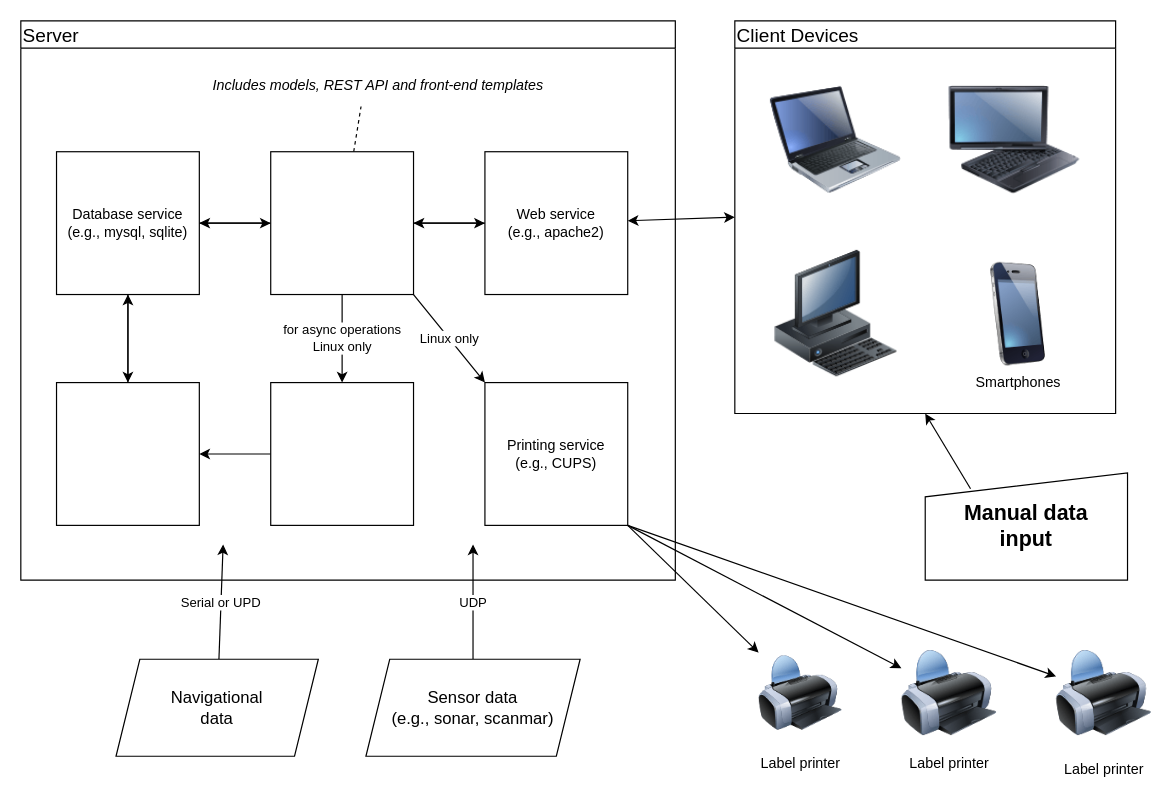
Some shapes in this 1172 by 798 pixel diagram are drawn without their labels. Here are the shapes that lost their labels. From the top down, the box of each, then its label:
(770, 80, 901, 199): Laptops
(948, 74, 1079, 205): Tablets
(270, 151, 414, 295): Andes web application
(770, 250, 901, 377): Workstations
(55, 381, 199, 525): Andes Celery service
(270, 381, 414, 525): Messaging service (e.g., redis)
